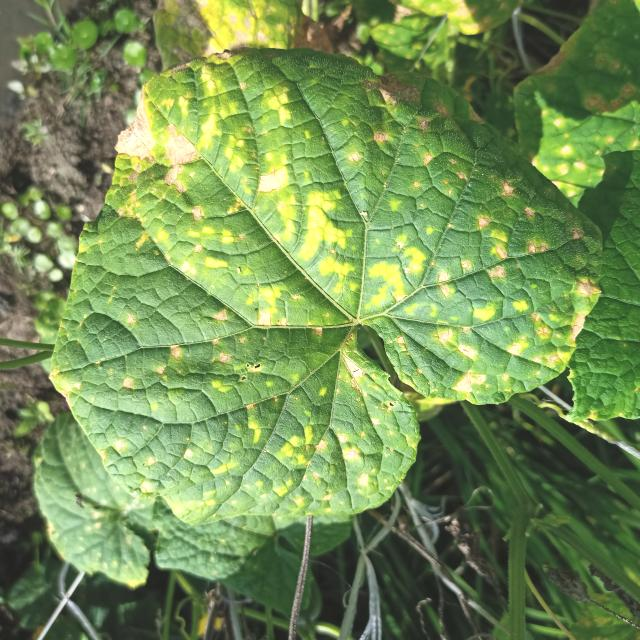disease_cucumber: (82, 76, 588, 512)
